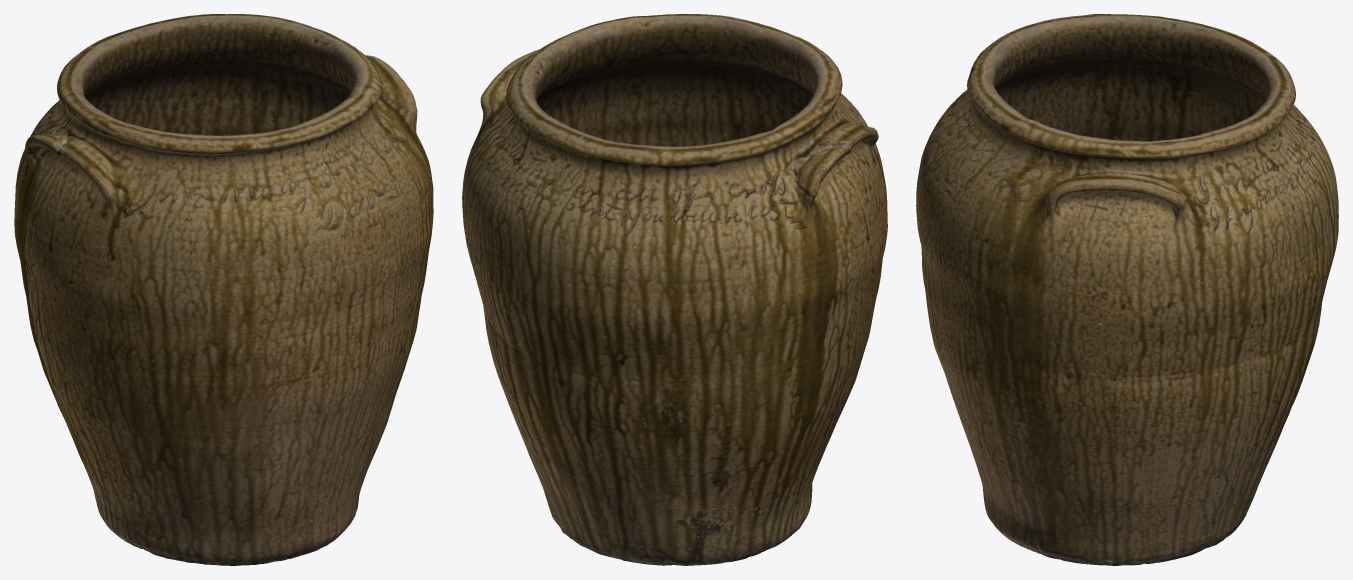
File: jar-hq.glb
3 renders of one model, left to right at view 1: azimuth 30°, elevation 25°; view 2: azimuth 150°, elevation 25°; view 3: azimuth 270°, elevation 25°, orthographic.
Visible parts, largest first — view 1: Node; view 2: Node; view 3: Node.
Part boxes in pixels (x1,y1,x2,y2): Node: (14,14,433,565); Node: (462,14,887,565); Node: (916,14,1338,565).
Size of the model in its own units: 0.4606 by 0.5252 by 0.4591.
Materials: 1 (1 with a texture image).
